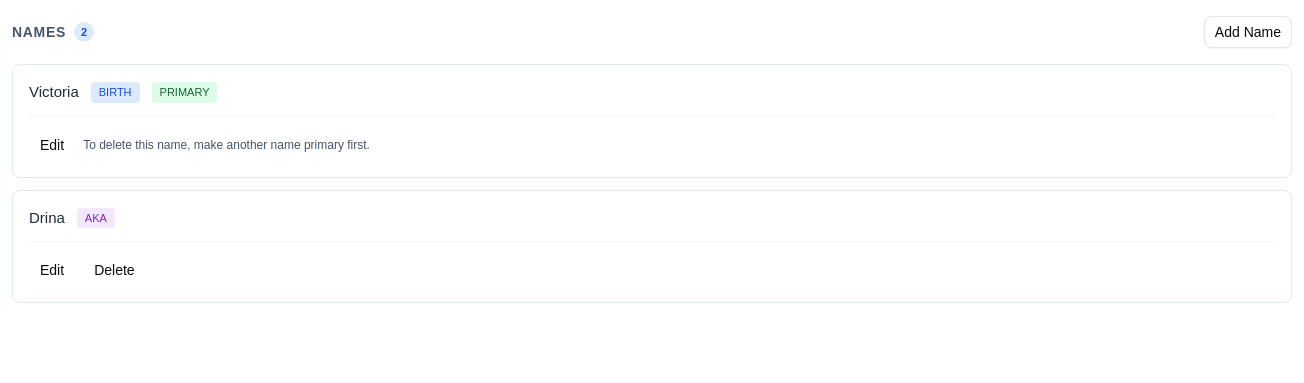
Scenario: NameSection › deleting a name › shows the server's refusal as it came, without a retry
Click the button "Delete".
click(114, 270)  # box [83, 254, 146, 286]
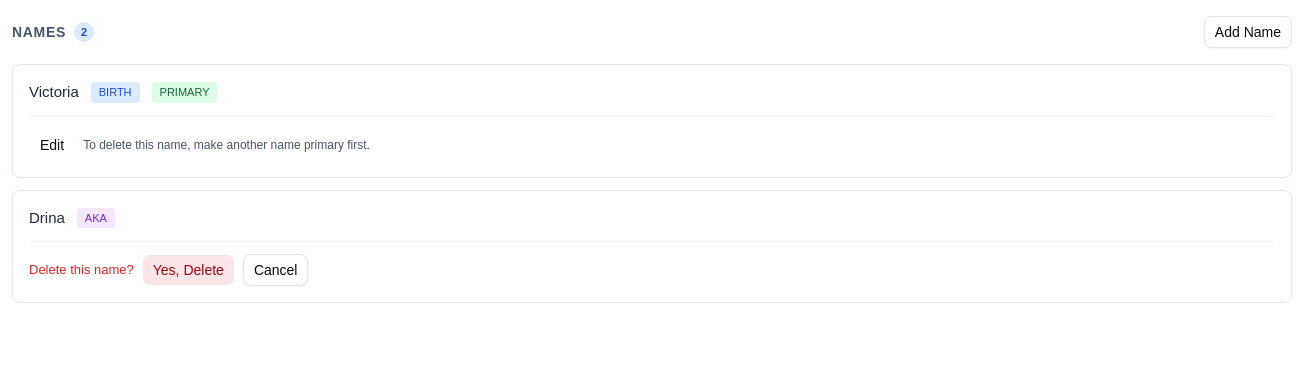
Click the button "Yes, Delete".
click(188, 270)  # box [142, 254, 235, 286]
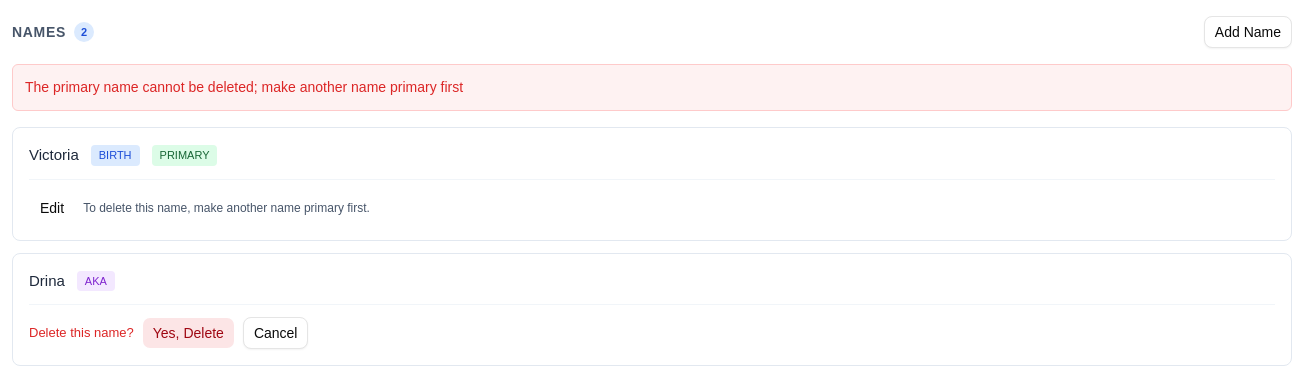
Expected: the message reads "The primary name cannot be deleted; make another name primary first", [25, 79, 463, 95]
